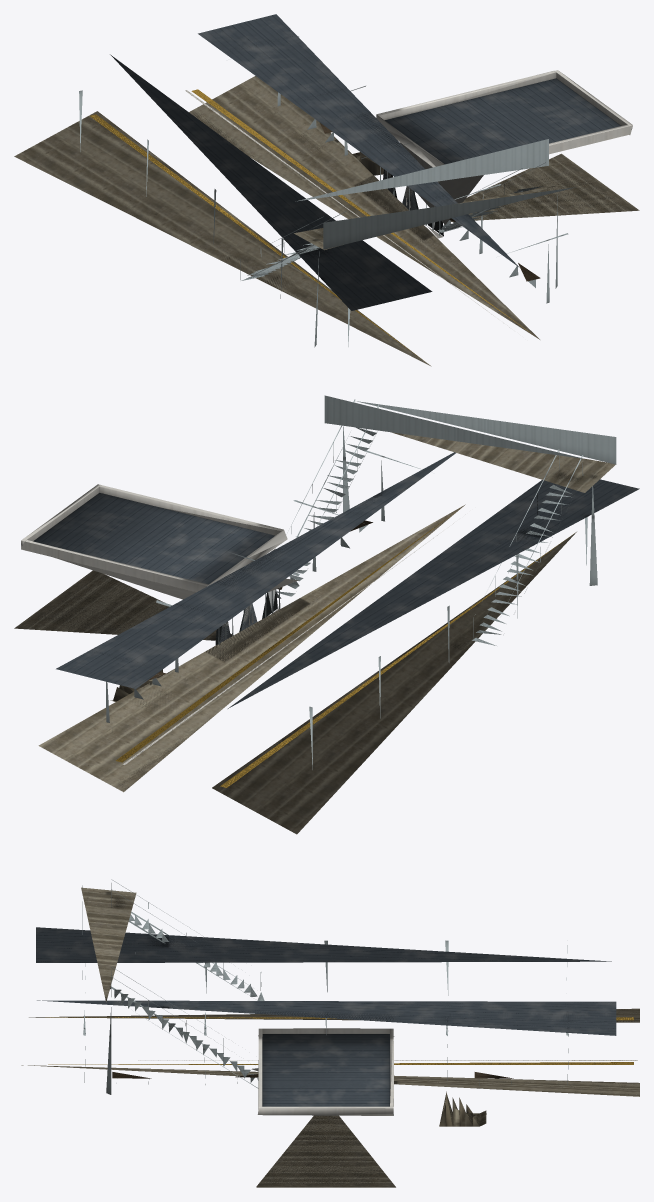
The model's file is station_002.lod2.obj.
3 views of the same model, one above another, from view 1: azimuth 30°, elevation 25°; view 2: azimuth 150°, elevation 25°; view 3: azimuth 270°, elevation 25° (orthographic). The views are drawn at different scales.
Parts seen in each view (by area): view 1: station_002; view 2: station_002; view 3: station_002.
Boxes of the visible parts, x1,y1,x2,y2 form: station_002: [14, 14, 639, 366]; station_002: [14, 395, 639, 834]; station_002: [21, 879, 639, 1187].
Bounding box in the file's own units: 17.8 × 6.65 × 26.
Materials: 1 (1 with a texture image).
